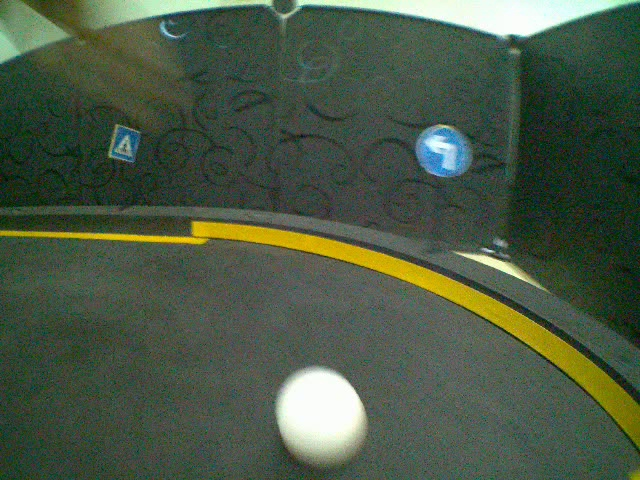bucket: (273, 364, 370, 471)
